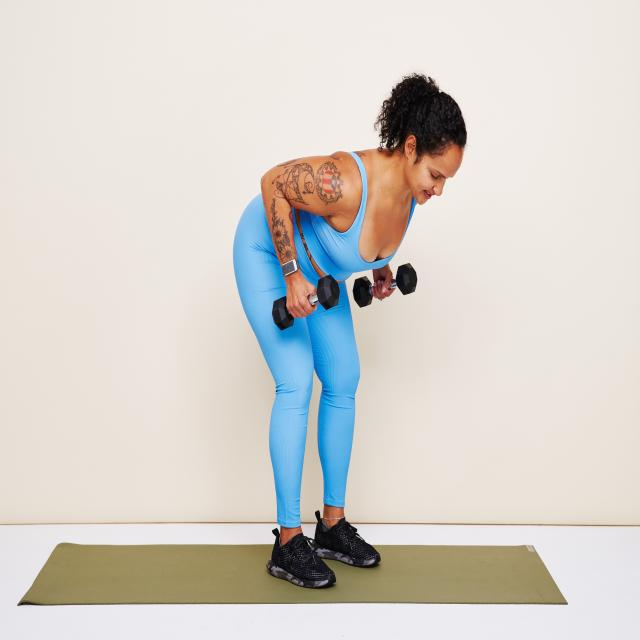adult: (233, 76, 467, 588)
